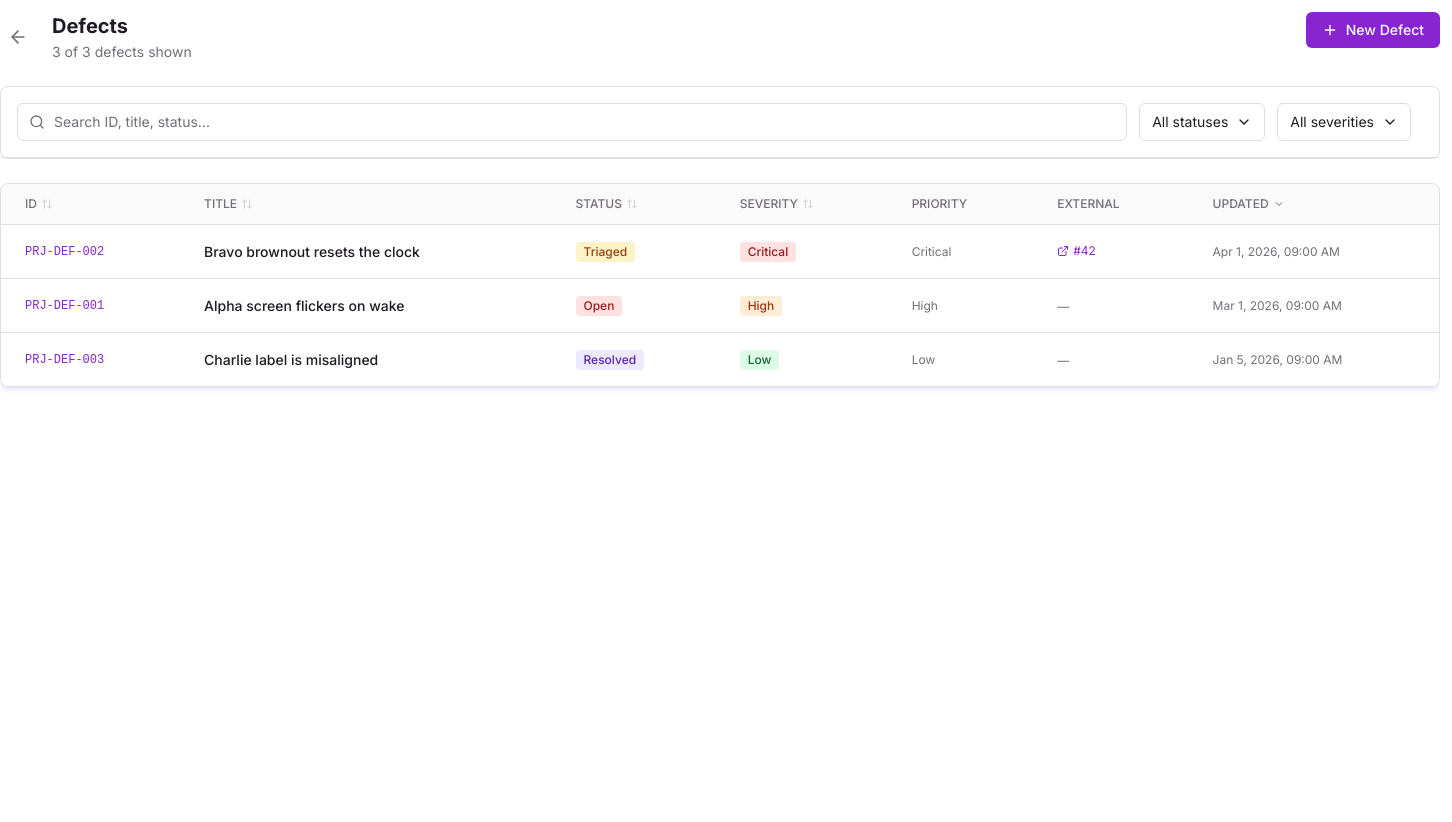
it: raising a defect › closes the form without raising anything
The image size is (1452, 822).
Check: the text "Alpha screen flickers on wake" is shown, box [180, 278, 552, 332]
What coordinates should you click on to do the following:
click the button "New Defect"
I would click on:
 (1373, 30)
Its box is [1306, 12, 1440, 48].
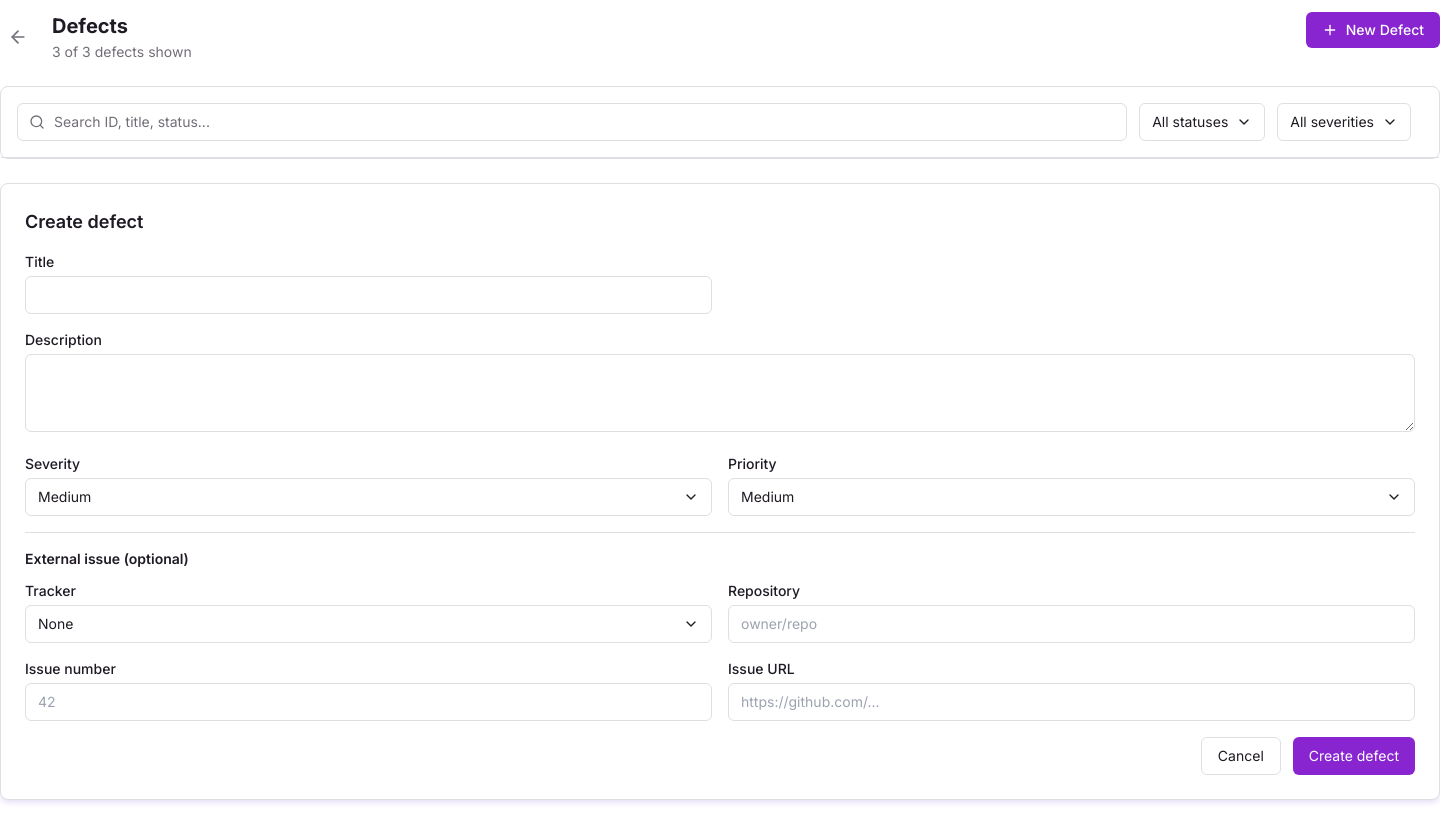
What coordinates should you click on to do the following:
click the button "Cancel"
I would click on:
 (1241, 756)
Its box is [1201, 737, 1281, 775].
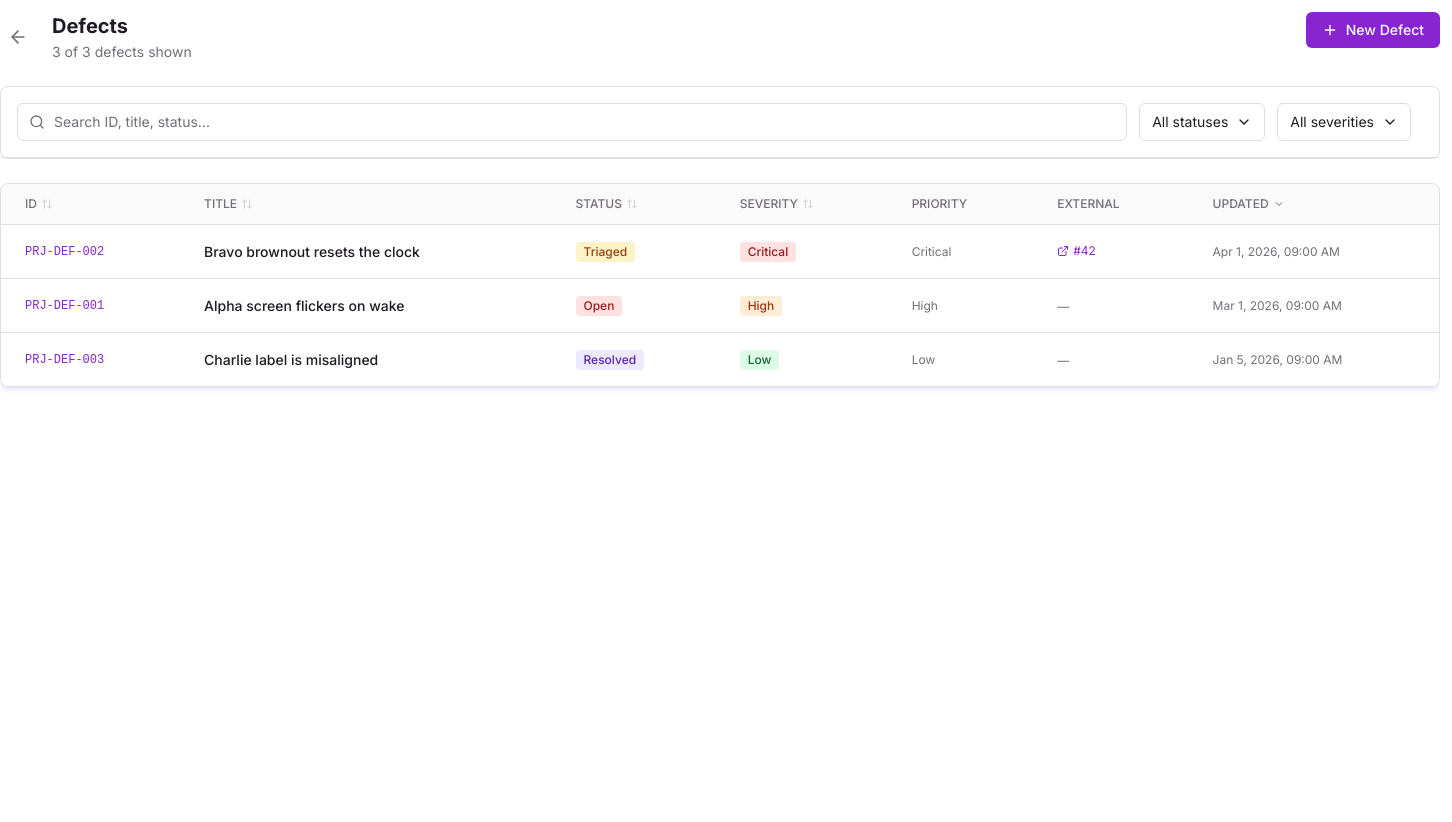
Check: the field titled "Title" is gone
